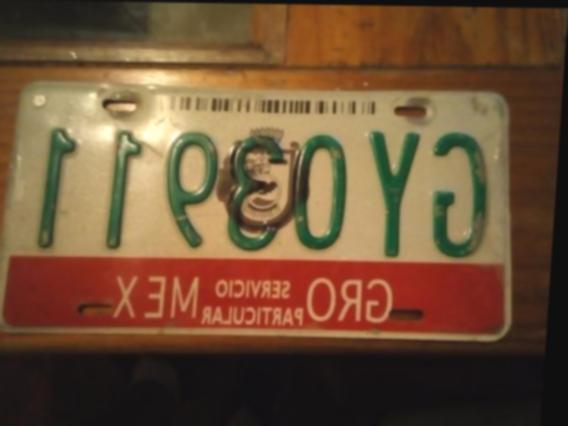License_Plate: (0, 78, 529, 346)
